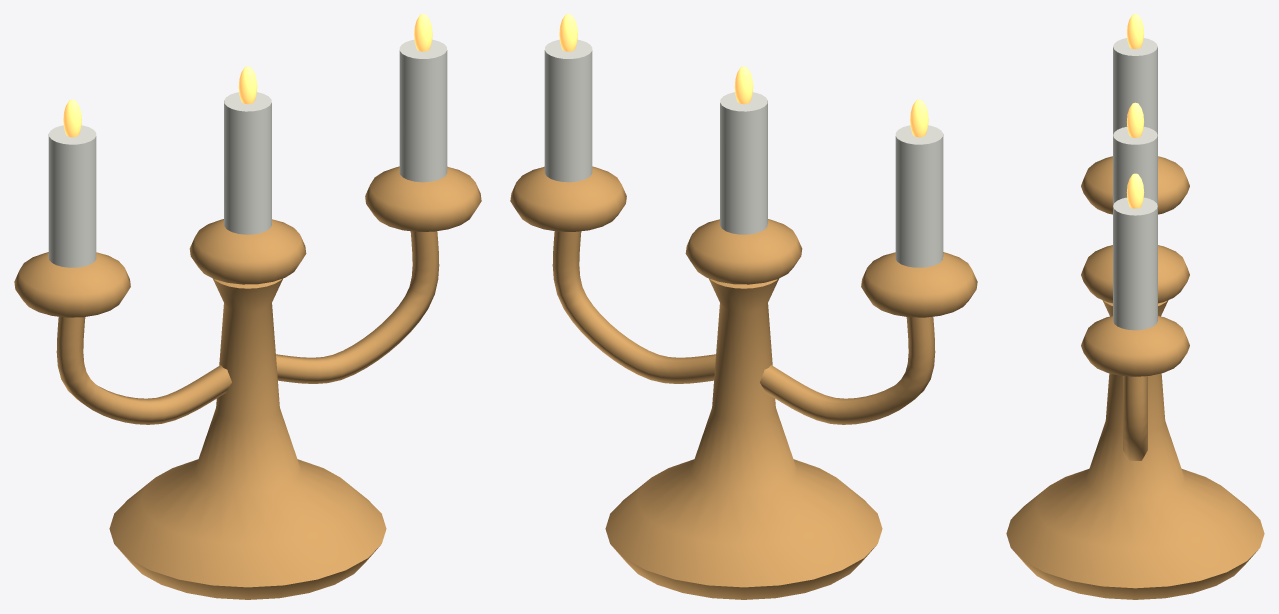
Rendered from storybook-christmas-market-three-arm-candelabra-6bbbfe60__19742.glb.
The picture shows the model from 3 angles, left to right: view 1: azimuth 30°, elevation 25°; view 2: azimuth 150°, elevation 25°; view 3: azimuth 270°, elevation 25°; orthographic projection. The views are drawn at different scales.
Visible parts, largest first — view 1: three-arm-candelabra; view 2: three-arm-candelabra; view 3: three-arm-candelabra.
Part boxes in pixels (x1,y1,x2,y2): three-arm-candelabra: [14, 14, 481, 599]; three-arm-candelabra: [510, 14, 977, 599]; three-arm-candelabra: [1006, 14, 1264, 599].
Size of the model in its own units: 0.98 by 1.02 by 0.52.
